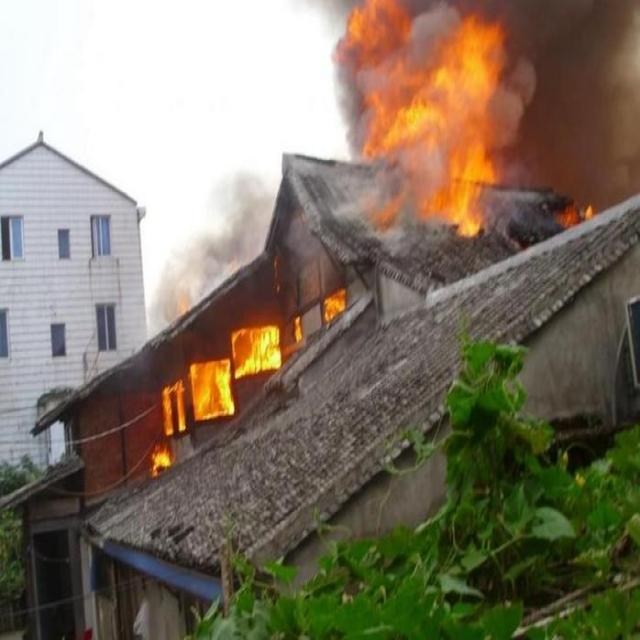Fire: (351, 0, 502, 225), (187, 358, 235, 422), (233, 326, 279, 376), (150, 444, 172, 475)
Smoke: (506, 0, 640, 198)
